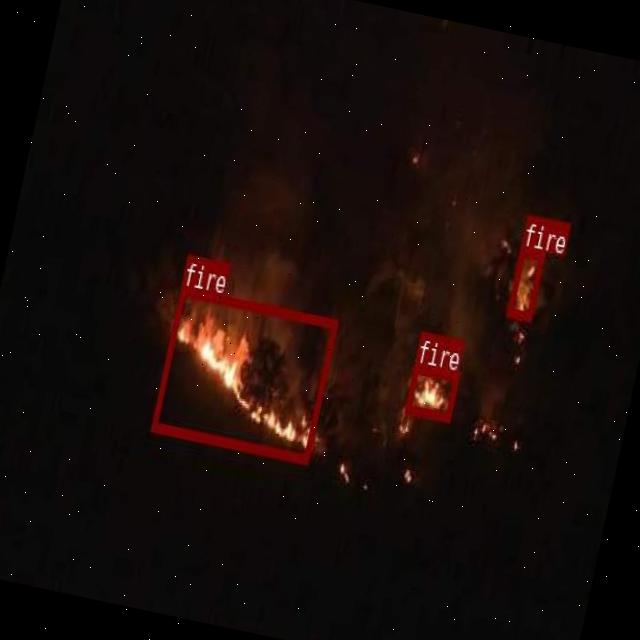fire: (150, 285, 337, 461), (404, 362, 458, 420), (506, 246, 544, 319)
